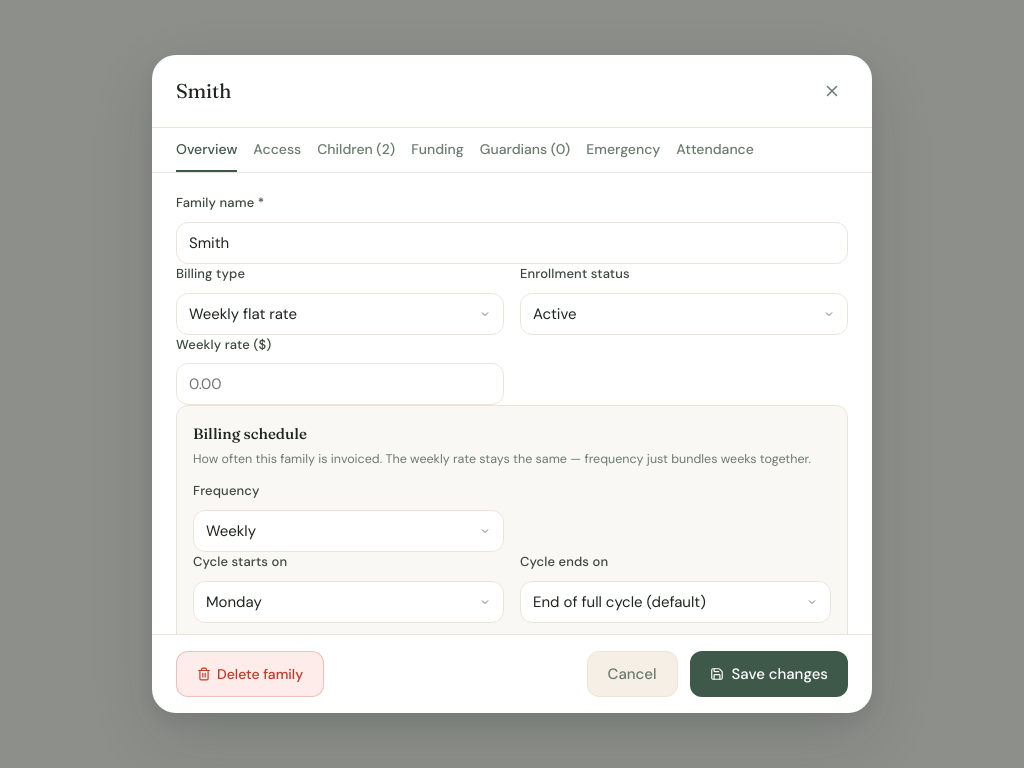
FamilyDetailModal — deep-link reactivity v2 (the bug v1 shipped, integration shape) › manual click on the Children tab inside the modal switches to Children and updates the URL
Expected: the text "Add child" is not shown
Click the button "Children (2)".
click(356, 150)  # box [317, 128, 395, 172]
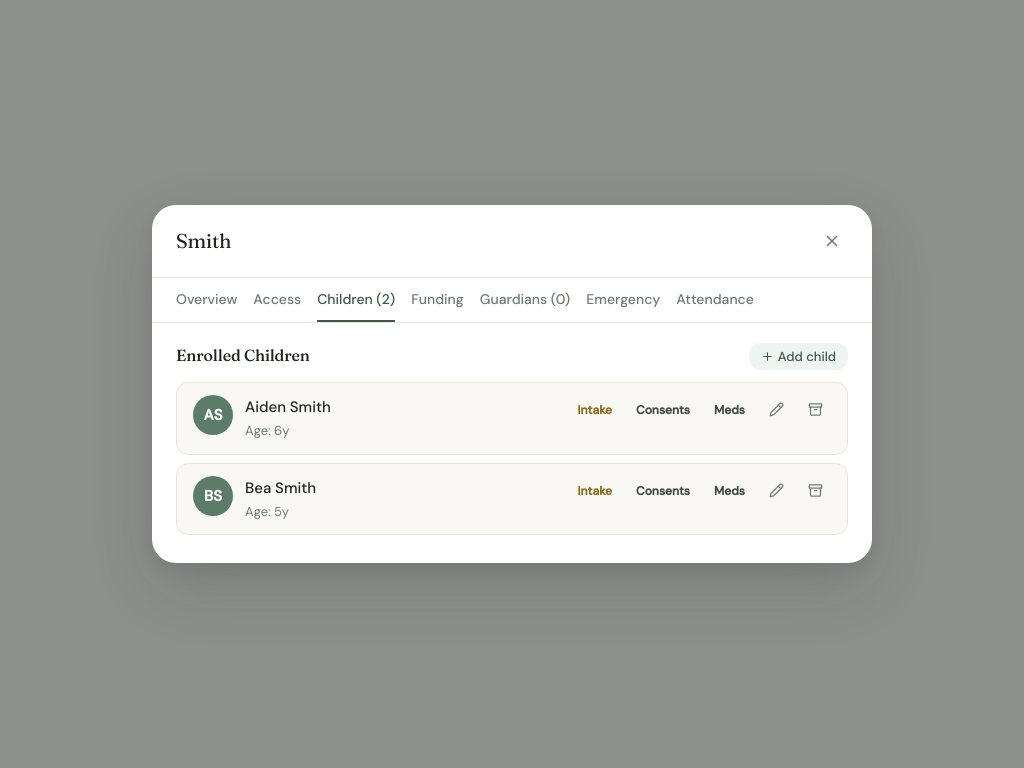
Result: the button "Add child" is shown at [749, 343, 848, 370]
